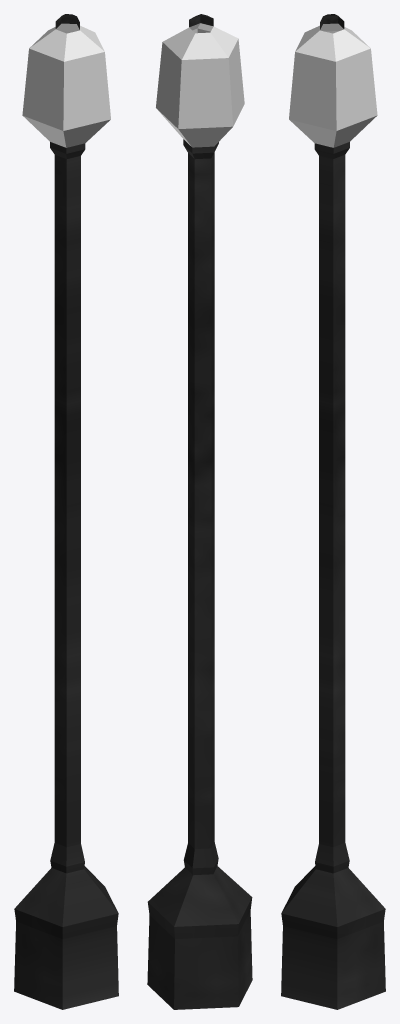
The model's file is lamp.dae.
3 renders of one model, left to right at view 1: azimuth 30°, elevation 25°; view 2: azimuth 150°, elevation 25°; view 3: azimuth 330°, elevation 25°, orthographic.
Visible parts, largest first — view 1: Circle, Circle.001; view 2: Circle, Circle.001; view 3: Circle, Circle.001.
Part boxes in pixels (left/top/right/bottom): Circle: left=14, top=142, right=118, bottom=1009; Circle.001: left=22, top=23, right=110, bottom=147; Circle: left=147, top=139, right=252, bottom=1009; Circle.001: left=156, top=23, right=244, bottom=147; Circle: left=281, top=142, right=385, bottom=1009; Circle.001: left=289, top=23, right=377, bottom=147.
Bounding box in the file's own units: 0.2733 × 0.26 × 2.78.
